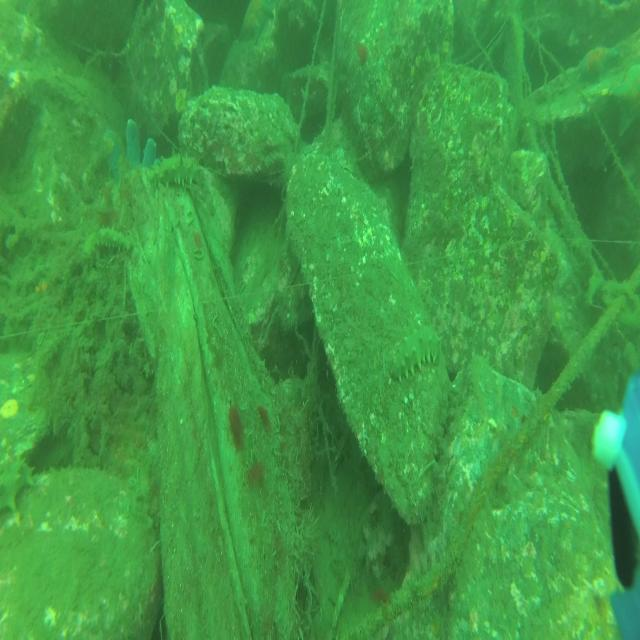holothurian: (382, 323, 442, 383), (151, 151, 202, 193), (1, 455, 34, 518), (90, 221, 132, 258)
starfish: (606, 64, 640, 140), (573, 42, 622, 84), (239, 1, 275, 43)
